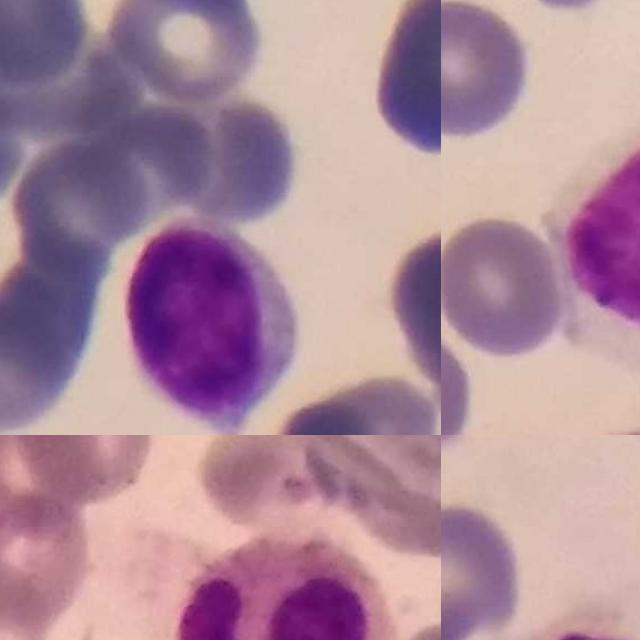Lymphocyte: (126, 215, 301, 425)
Monocyte: (560, 118, 640, 380)
Neutrophil: (173, 533, 395, 640)
